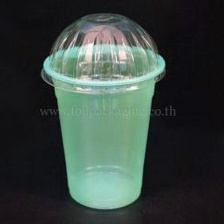glass: (36, 8, 179, 214)
